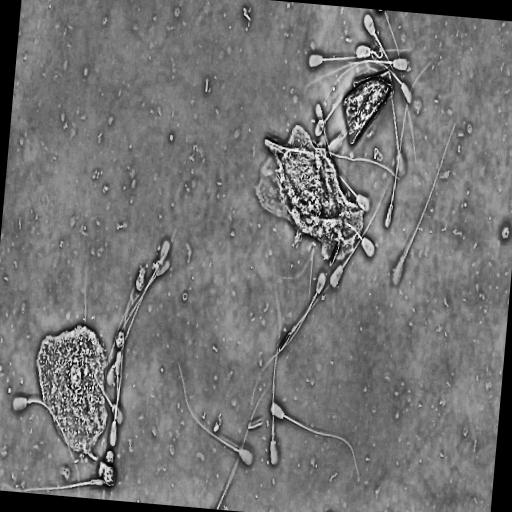coiled-tail: (356, 45, 384, 60), (370, 48, 383, 58), (372, 57, 378, 60), (382, 52, 383, 58), (371, 54, 372, 58)
dirt-particles: (265, 121, 372, 269), (31, 320, 111, 464), (340, 74, 395, 153), (96, 448, 118, 489), (133, 262, 147, 294), (114, 329, 125, 351)
loose-tail: (215, 377, 272, 509)
normal: (390, 119, 457, 290), (250, 269, 328, 406), (383, 58, 438, 230), (176, 357, 255, 470), (268, 401, 360, 481), (329, 177, 391, 295), (12, 397, 79, 481), (109, 276, 138, 446), (323, 58, 408, 105), (267, 291, 283, 470), (307, 47, 411, 71)
